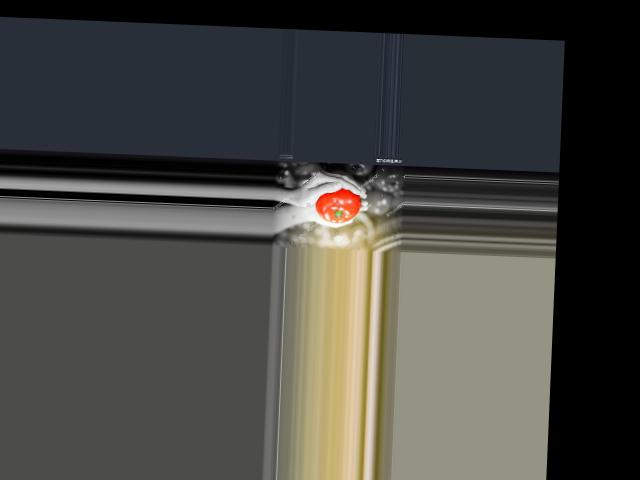tomato: (314, 187, 360, 223)
